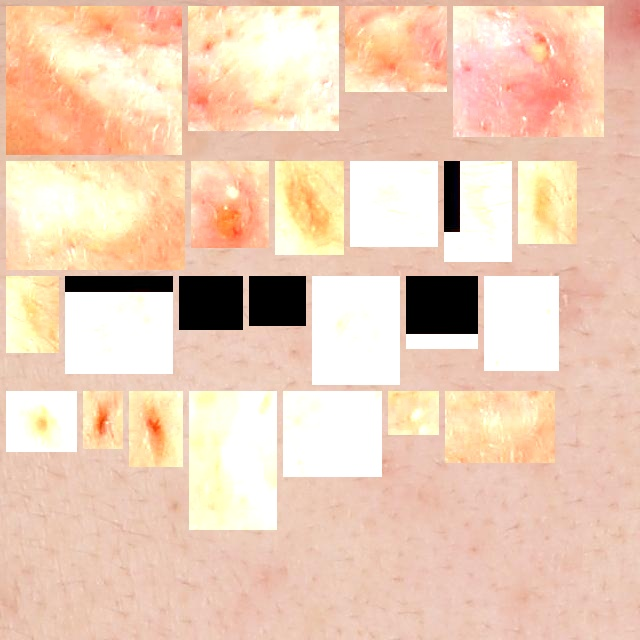hypertrophic_scar: (14, 14, 174, 147), (14, 169, 177, 262), (196, 14, 331, 123), (197, 399, 269, 522), (353, 14, 439, 84), (291, 399, 374, 469), (453, 399, 547, 455), (492, 284, 551, 363)
melasma: (73, 284, 165, 366), (320, 284, 392, 377), (358, 169, 430, 239), (452, 169, 504, 254), (283, 169, 336, 247), (414, 284, 470, 341), (526, 169, 569, 236), (14, 284, 51, 345), (187, 284, 235, 322), (257, 284, 298, 318)
nevus: (14, 399, 69, 444), (137, 399, 175, 459), (91, 399, 115, 441)
pustule: (461, 14, 596, 129), (199, 169, 261, 240), (396, 399, 431, 427)
